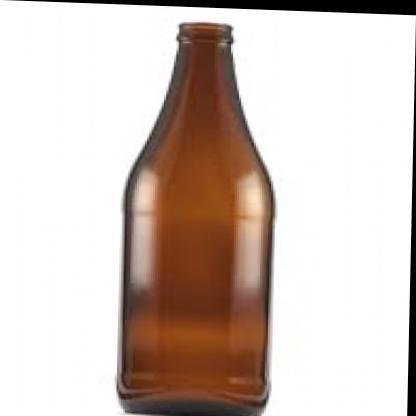trash: (118, 23, 273, 415)
